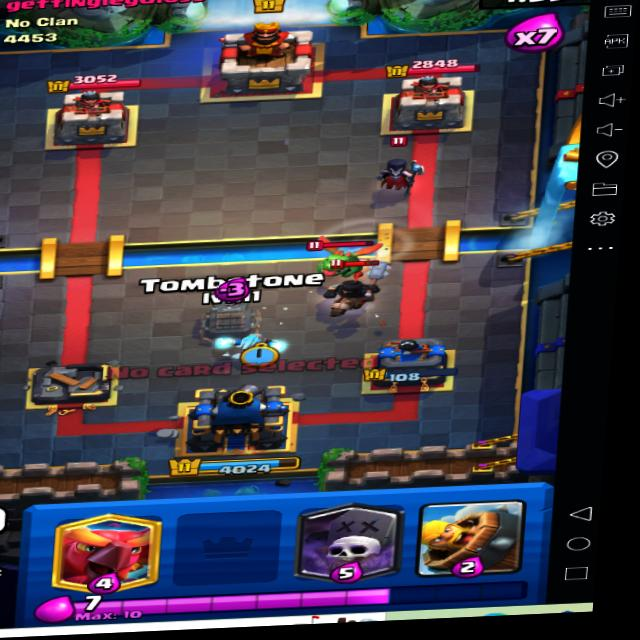baby-dragon: (311, 232, 379, 276)
dark-prince: (312, 253, 389, 319)
night-witch: (368, 135, 422, 193)
